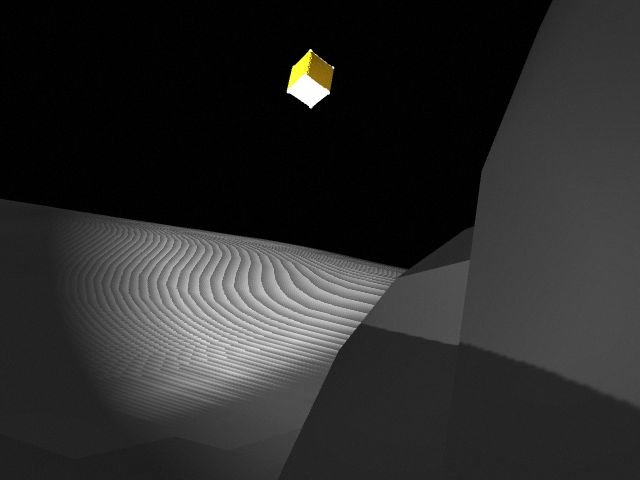cubesat: (280, 44, 339, 112)
